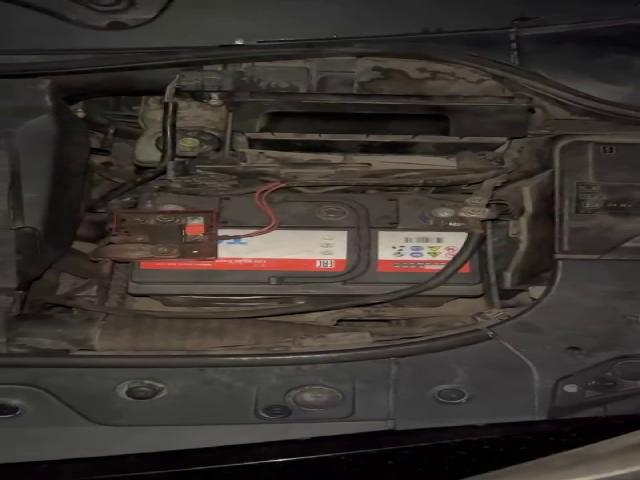accumulator: (93, 191, 491, 308)
fuse_box: (547, 134, 638, 259)
